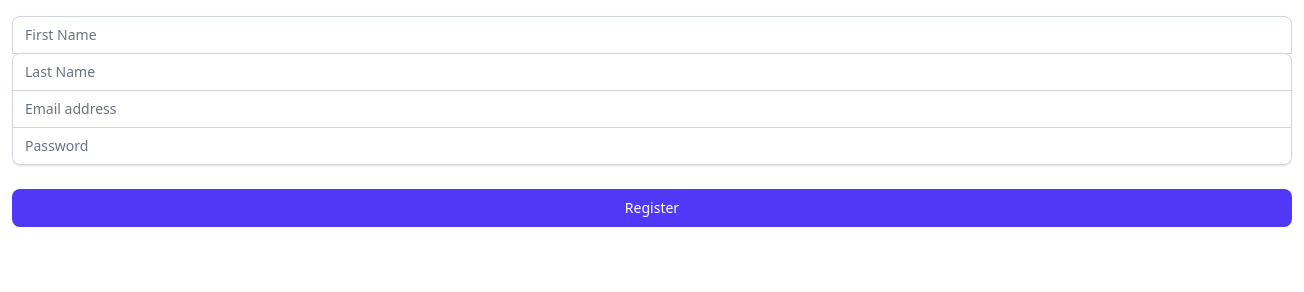
Test case: RegistrationForm Component › validates password is required
Type "John" into the field with placeholder "First Name".
click(652, 35); type("John")  # box [12, 16, 1292, 54]
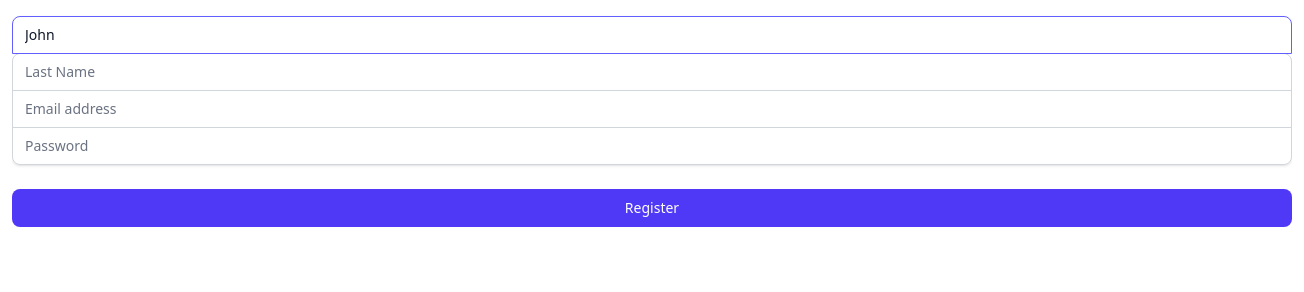
Type "john@example.com" into the field with placeholder "Email address".
click(652, 109); type("john@example.com")  # box [12, 90, 1292, 128]
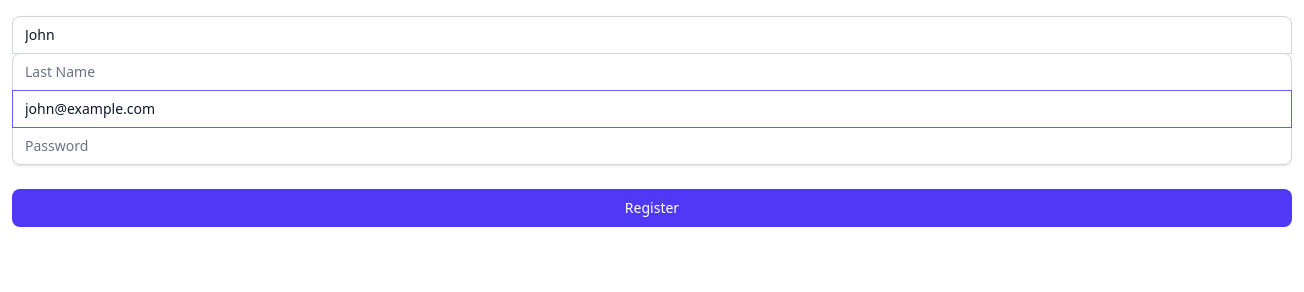
Click the button "Register".
click(652, 208)  # box [12, 189, 1292, 227]
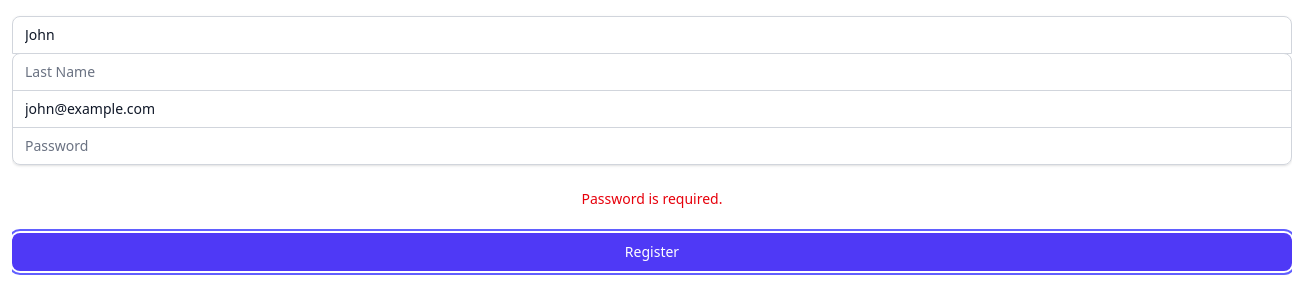
Expected: the text "Password is required." is shown, [582, 189, 722, 208]
